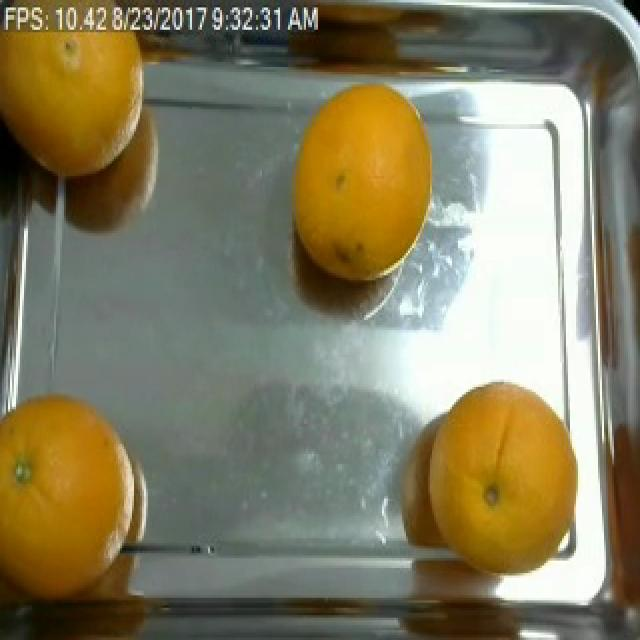Fruit: (270, 72, 444, 285), (0, 7, 156, 191)
